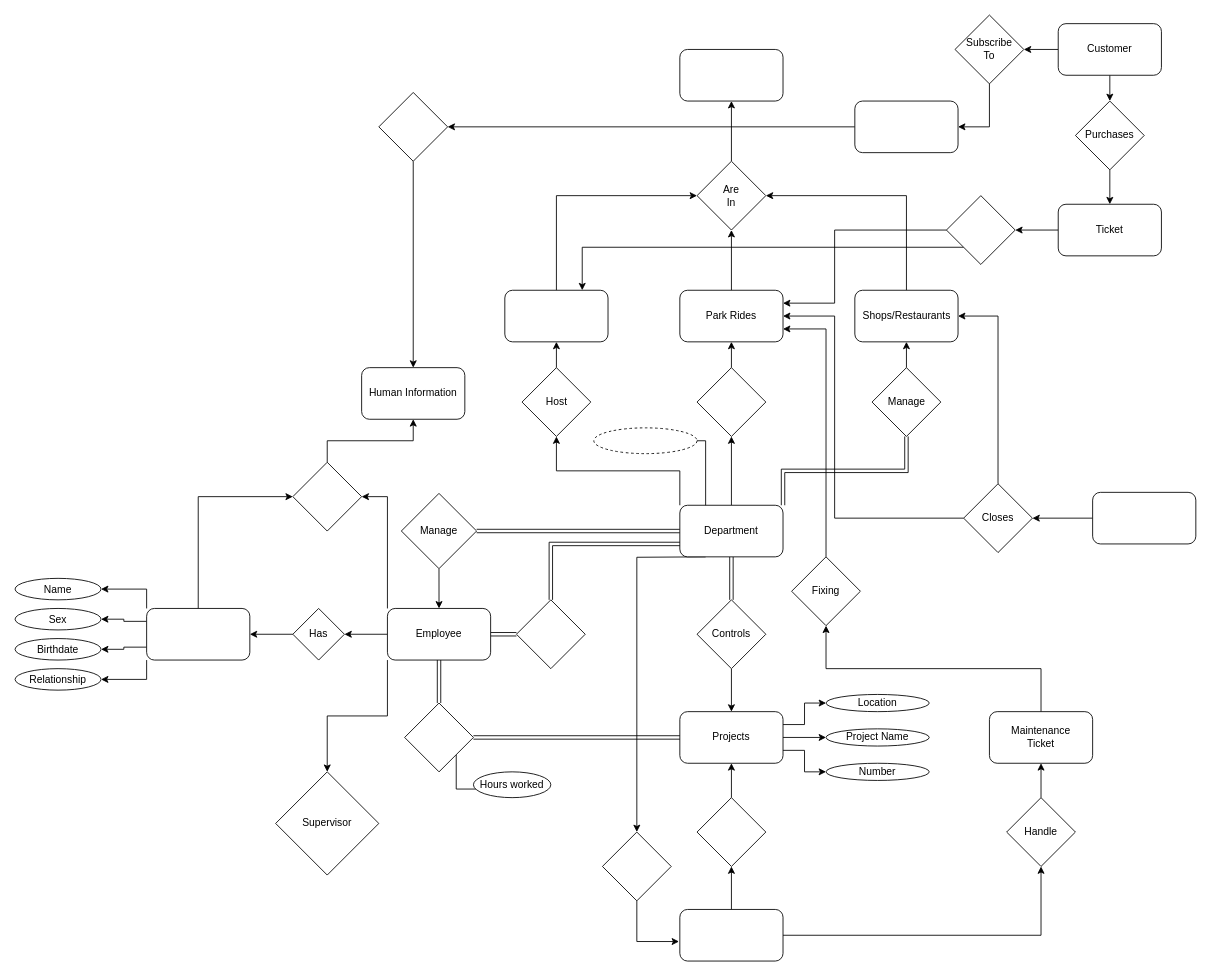
This 1211x976 diagram has some shape labels left out. Here are the shapes that lost their labels. From the top down, the centre of each, then its label:
At (x=731, y=75): "Areas/Locations".
At (x=413, y=126): "Contain".
At (x=906, y=126): "Memberships".
At (x=980, y=229): "Give Access To".
At (x=556, y=315): "Events".
At (x=731, y=401): "Operate".
At (x=645, y=440): "Number_of_Employees".
At (x=327, y=496): "Possesses".
At (x=1144, y=517): "Inclement Weather Event".
At (x=198, y=634): "Dependant".
At (x=550, y=634): "Works For".
At (x=438, y=737): "Works_On".
At (x=731, y=831): "Assist With".
At (x=636, y=866): "Employees".
At (x=731, y=935): "Contractors".
